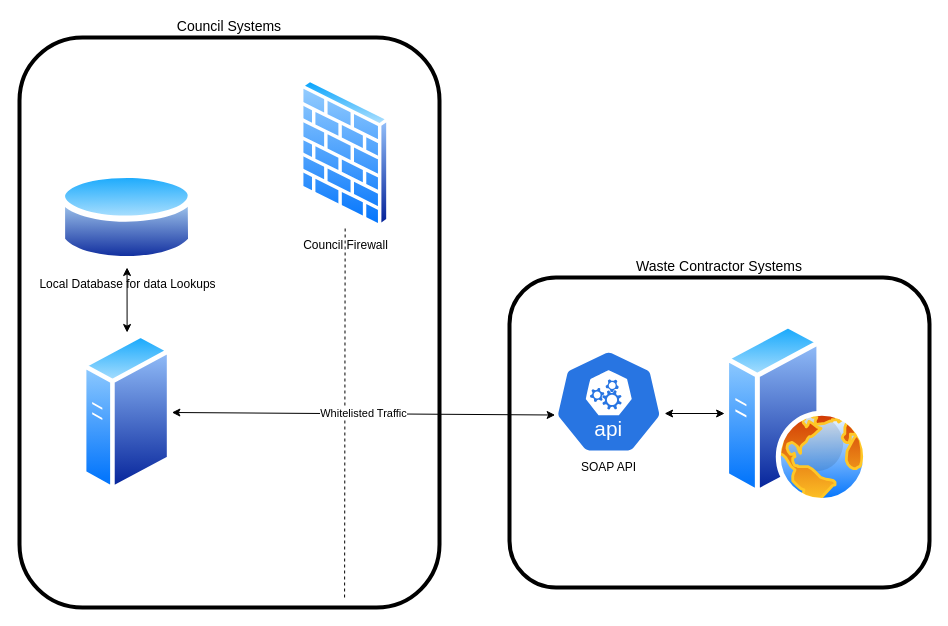
This 948x626 diagram has some shape labels left out. Each missing label, with the centre of its shape:
Application Server to host this tool: point 126,412
Waste Management Application: point 796,413
